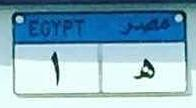1: (47, 50, 65, 88)
haa: (135, 54, 157, 83)
